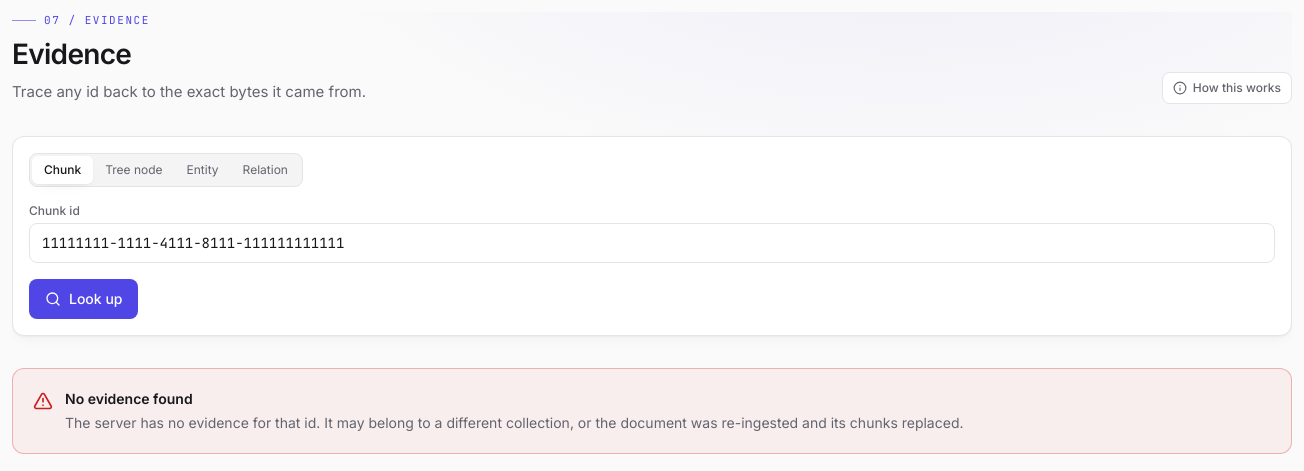
Test case: EvidencePage › explains_404_and_503
expect the message shows "No evidence found": met, box [65,390,193,407]
Click the button "Look up" at (84, 299), box [29,279,138,319]
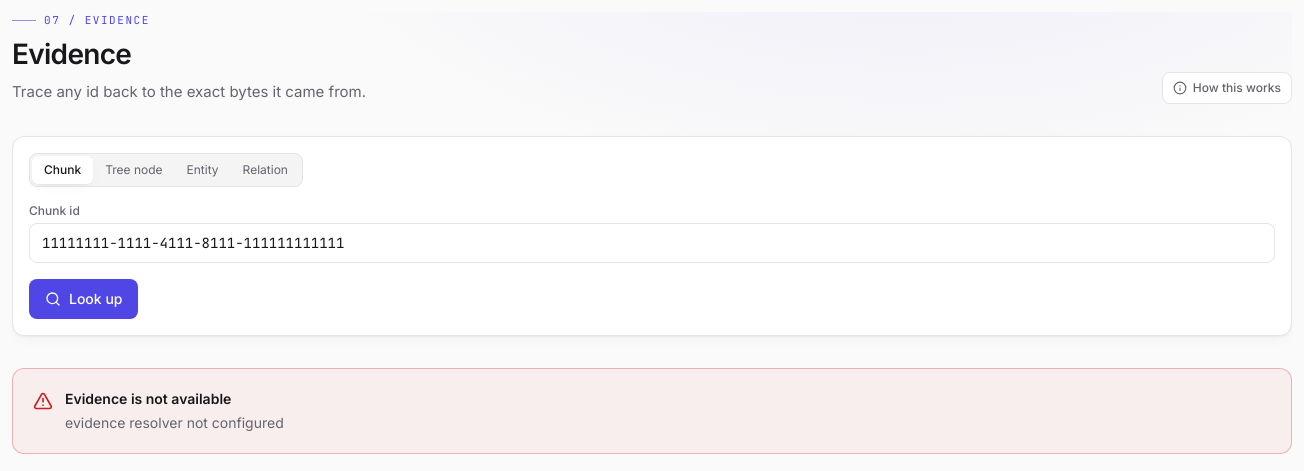
expect the message shows "evidence resolver not configured": met, box [65,414,284,431]
